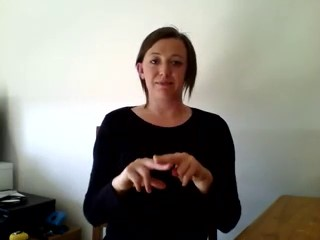F: (123, 149, 203, 197)
